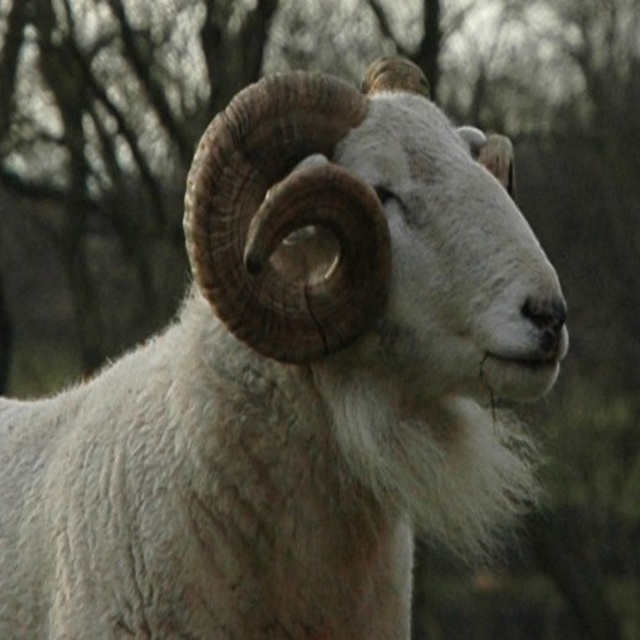Sheep: (0, 54, 569, 640)
